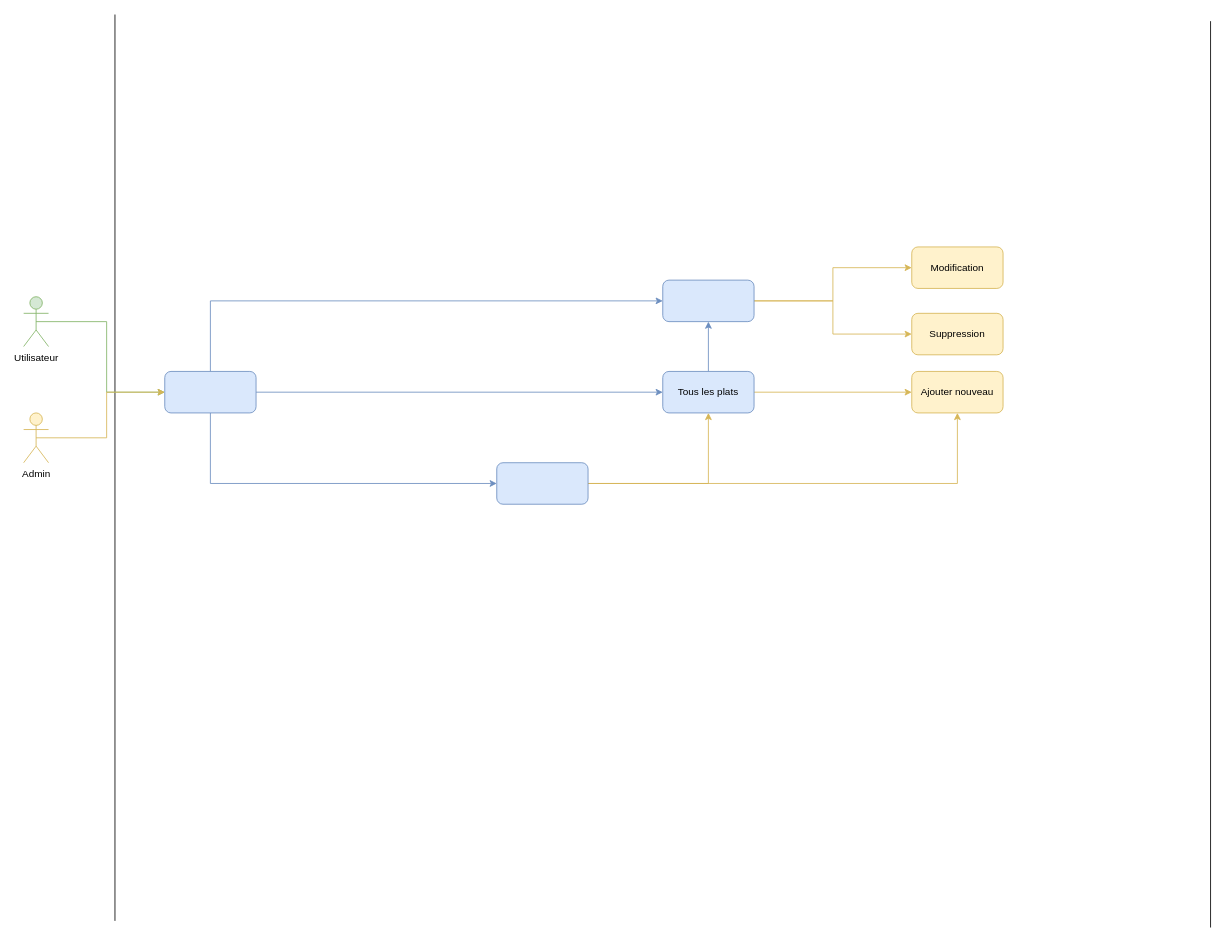
The diagram is 1226 pixels wide and 943 high, and some of its shapes have lost their labels. The shapes that lost their labels are listed below. From the top down, each one's box as (x1, y1, x2, y2) in pixels, then its label:
(662, 279, 754, 322): Voir plat
(164, 371, 256, 413): Accueil
(496, 462, 588, 504): Connexion
